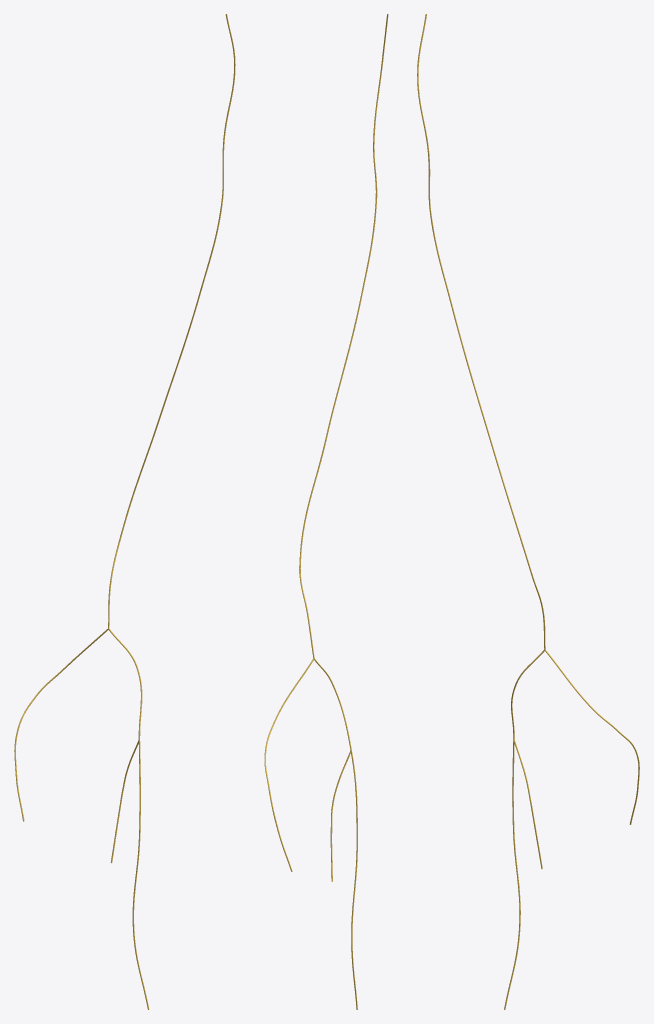
The model's file is Saphenous_nerve_right.glb.
3 views of the same model, side by side, from view 1: azimuth 90°, elevation 25°; view 2: azimuth 150°, elevation 25°; view 3: azimuth 270°, elevation 25° (orthographic). The views are drawn at different scales.
Visible parts, largest first — view 1: Saphenous_nerve.r_BezierCurve.461; view 2: Saphenous_nerve.r_BezierCurve.461; view 3: Saphenous_nerve.r_BezierCurve.461.
Boxes of the visible parts, box(x1,y1,x2,y2) form: Saphenous_nerve.r_BezierCurve.461: box(14, 14, 235, 1009); Saphenous_nerve.r_BezierCurve.461: box(264, 14, 388, 1009); Saphenous_nerve.r_BezierCurve.461: box(417, 14, 639, 1009).
Bounding box in the file's own units: 0.0422 × 0.7577 × 0.153.
